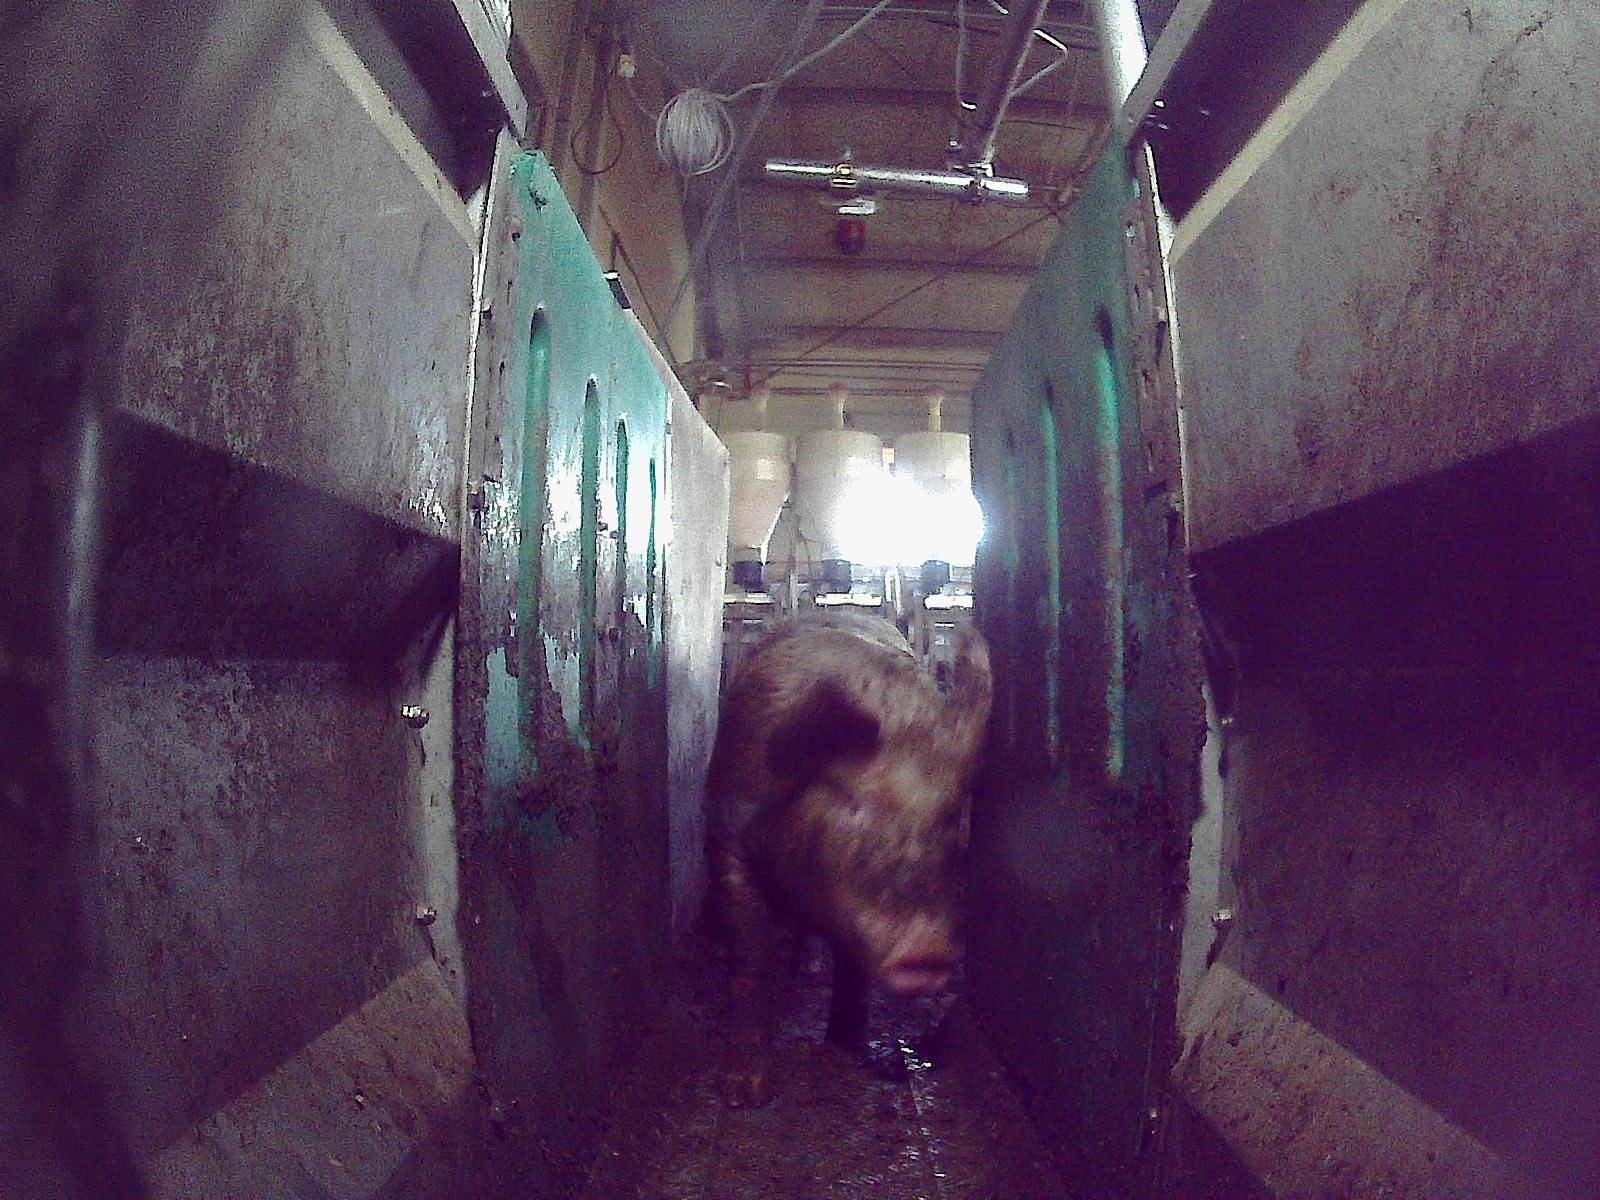Face: (786, 738, 963, 990)
